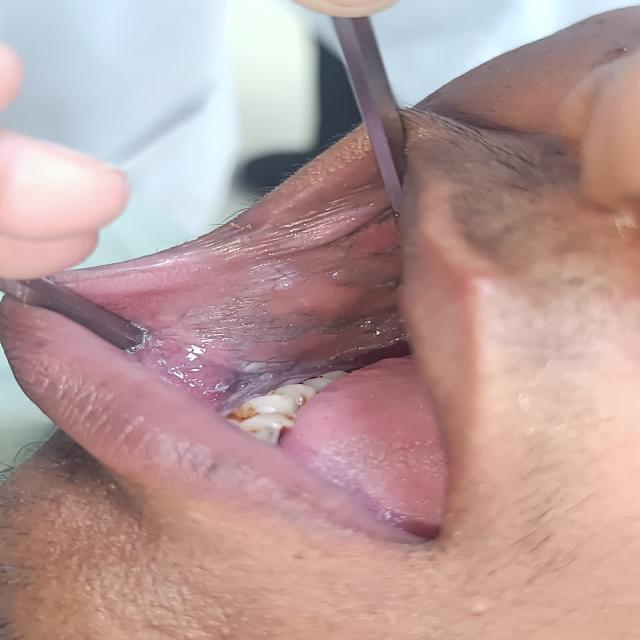leukoplakia-detection: (100, 193, 404, 403)
processing_area: (81, 188, 464, 537)
